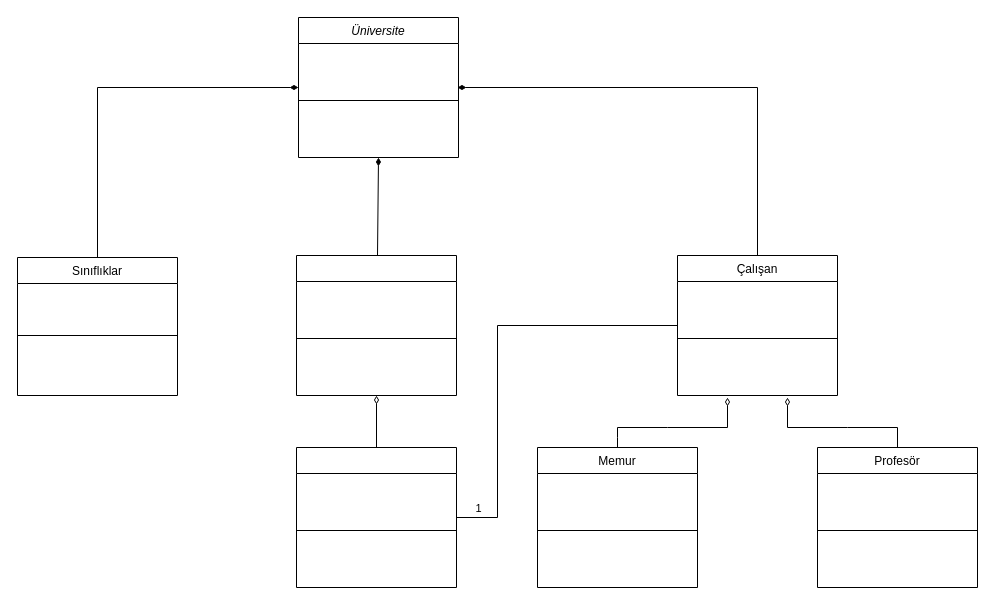
This 995x605 diagram has some shape labels left out. The shapes that lost their labels are listed below. From the top down, each one's centre as x and y in pixels, then its label:
At (376,325): "Departmanlar".
At (376,517): "Çalışma Ofisi".
